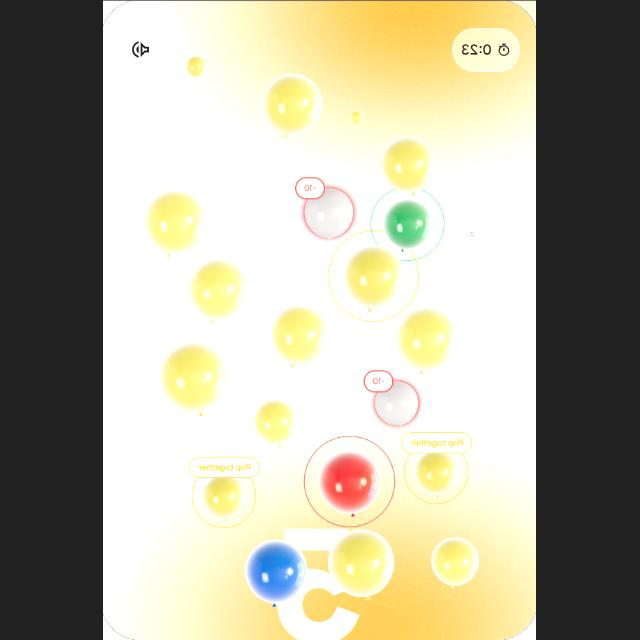hazard: (296, 173, 358, 243), (362, 372, 426, 432)
safe: (158, 335, 228, 419), (326, 526, 402, 602), (140, 185, 210, 262), (391, 307, 461, 373), (180, 260, 252, 324), (262, 72, 324, 140), (270, 301, 328, 373), (380, 134, 434, 198), (429, 533, 481, 593), (250, 398, 298, 448), (182, 52, 212, 82), (350, 108, 368, 124)
safe-pair: (402, 428, 474, 512), (190, 451, 260, 535)
sequence: (301, 433, 399, 533), (323, 230, 422, 326), (366, 184, 450, 266), (241, 536, 311, 610)
